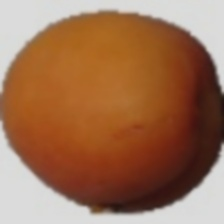apricot: (25, 23, 216, 176)
